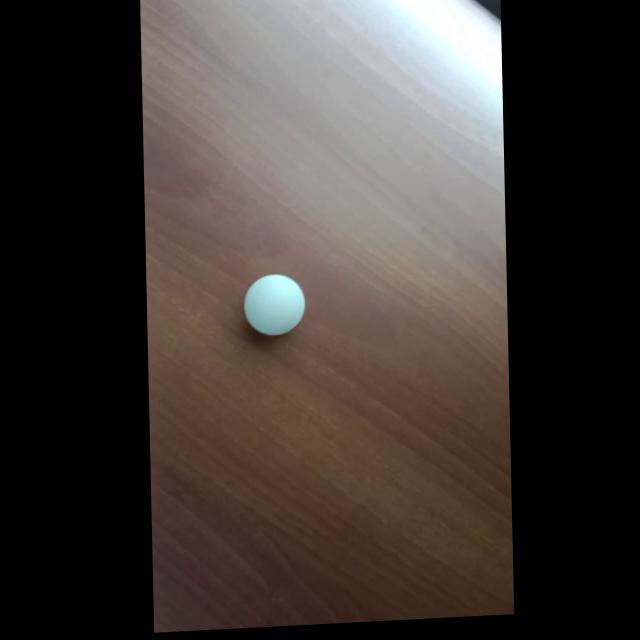white ball: (242, 271, 306, 337)
